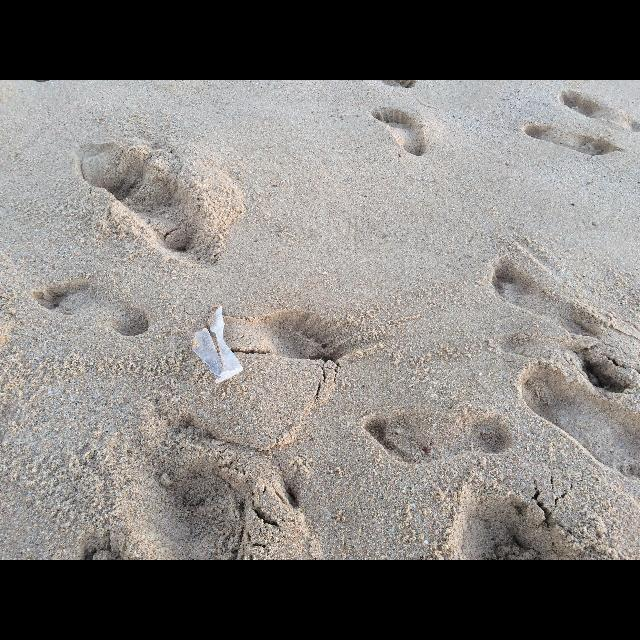Plastic: (192, 306, 242, 382)
